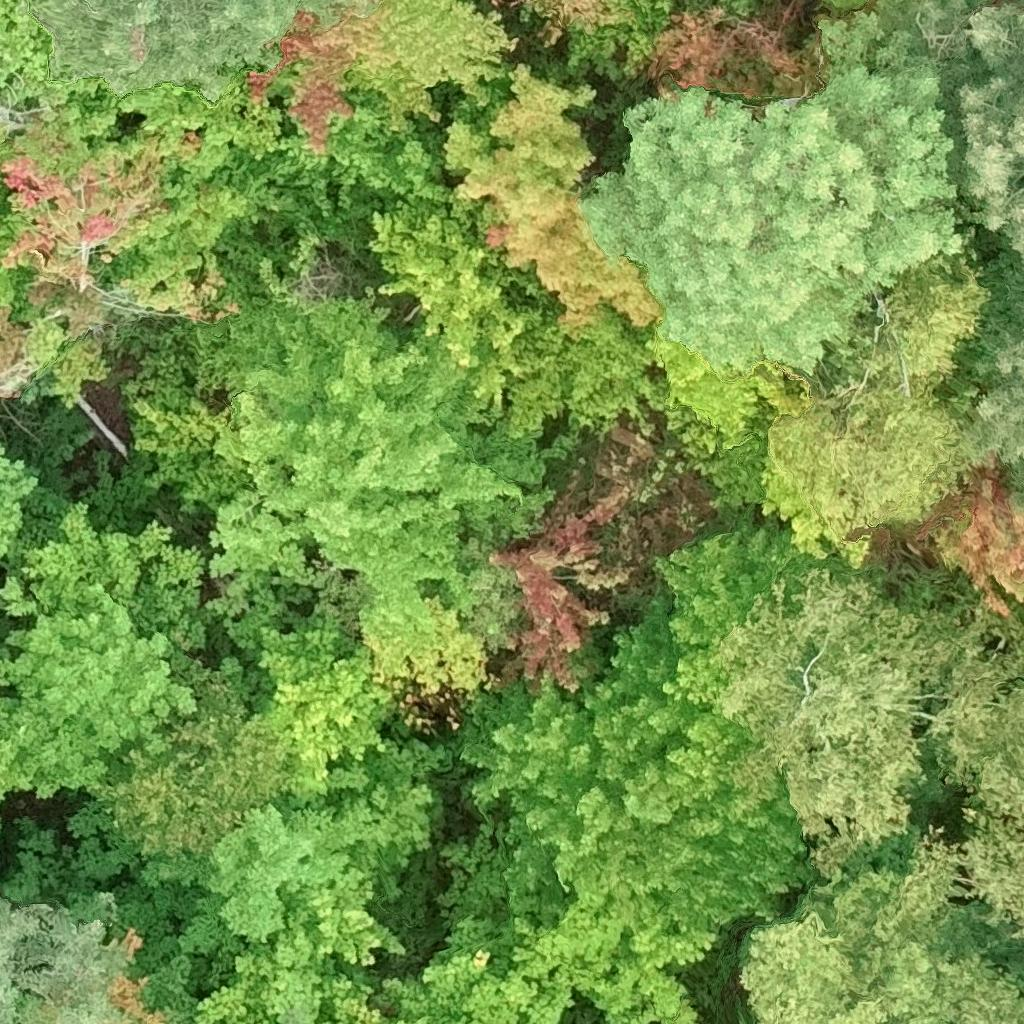crown: (124, 228, 552, 698), (378, 157, 839, 534), (435, 520, 816, 946), (580, 0, 973, 378), (67, 610, 444, 987), (719, 556, 1023, 875), (0, 128, 254, 417), (0, 489, 206, 799), (126, 65, 451, 251), (442, 63, 660, 336), (739, 820, 1023, 1023), (87, 647, 295, 861), (247, 0, 519, 156), (381, 897, 713, 1023), (492, 0, 826, 114), (30, 0, 378, 101), (195, 879, 404, 1023), (913, 0, 1023, 273), (496, 482, 629, 691), (0, 0, 130, 202), (894, 751, 1023, 938), (0, 889, 123, 1023), (967, 305, 1023, 513), (0, 188, 40, 321), (0, 443, 42, 558), (284, 1009, 305, 1023)
